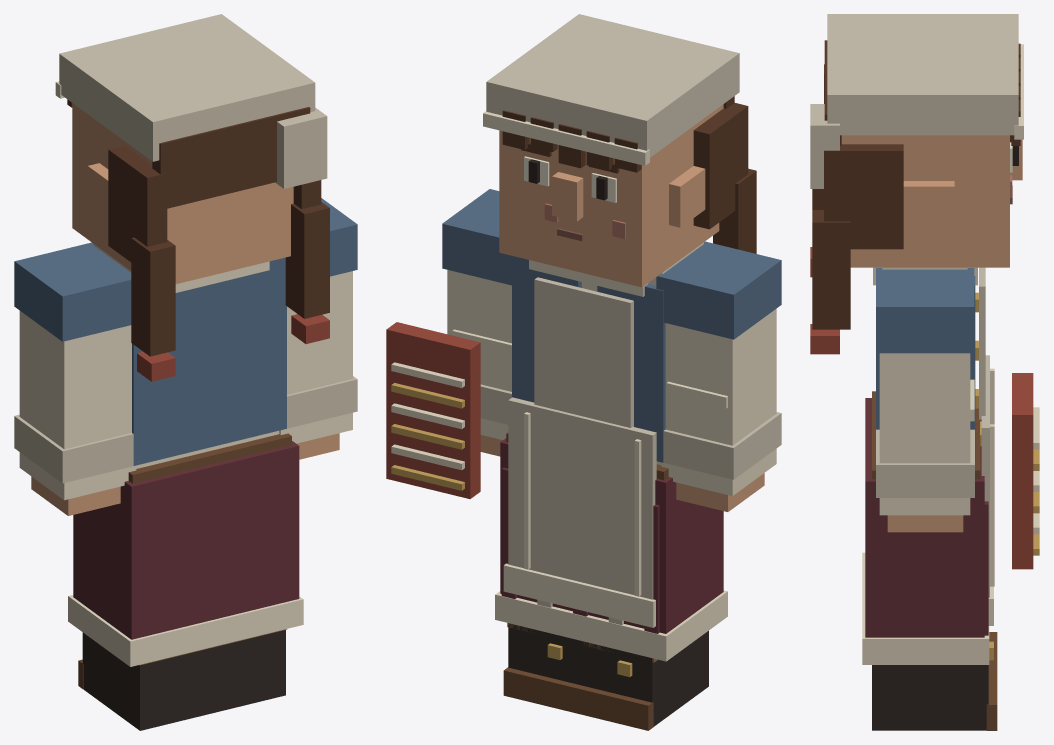
File: weaver.obj
3 renders of one model, left to right at view 1: azimuth 30°, elevation 25°; view 2: azimuth 150°, elevation 25°; view 3: azimuth 270°, elevation 25°, orthographic. The views are drawn at different scales.
Parts seen in each view (by area): view 1: head, body, right_arm, left_arm, right_leg, left_leg; view 2: body, head, right_arm, equipment_left, left_arm, right_leg, left_leg; view 3: head, left_arm, body, left_leg, equipment_left.
Boxes of the visible parts, bbox=[...] form: head: bbox=[55, 14, 329, 381]; body: bbox=[68, 244, 303, 666]; right_arm: bbox=[14, 242, 136, 515]; left_arm: bbox=[279, 198, 357, 459]; right_leg: bbox=[78, 632, 216, 730]; left_leg: bbox=[210, 629, 287, 713]; body: bbox=[495, 242, 727, 661]; head: bbox=[483, 14, 756, 287]; right_arm: bbox=[656, 241, 781, 511]; equipment_left: bbox=[386, 322, 480, 498]; left_arm: bbox=[442, 189, 511, 456]; right_leg: bbox=[573, 630, 708, 730]; left_leg: bbox=[503, 623, 582, 713]; head: bbox=[810, 14, 1023, 354]; left_arm: bbox=[876, 268, 974, 532]; body: bbox=[862, 267, 994, 664]; left_leg: bbox=[872, 641, 997, 730]; equipment_left: bbox=[1012, 373, 1039, 569].
Bounding box in the file's own units: 1.12 × 2.08 × 0.675.
